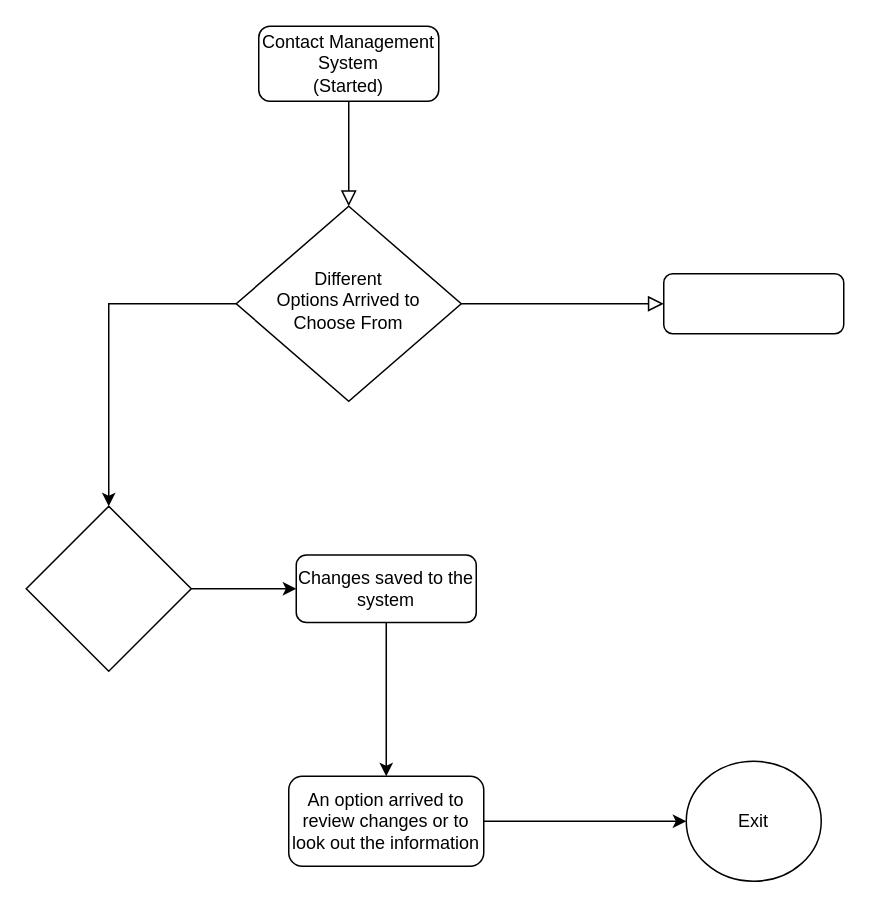
Some shapes in this 870 by 908 pixel diagram are drawn without their labels. Each missing label, with the centre of its shape:
"Details about the person entered." belongs at (x=108, y=588).
"Option selection done" belongs at (x=753, y=303).
